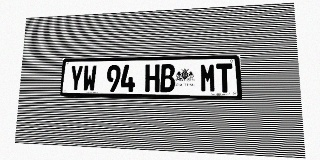4: (120, 65, 135, 92)
9: (106, 65, 121, 92)
B: (160, 64, 175, 92)
H: (145, 64, 160, 92)
M: (200, 63, 216, 92)
T: (216, 63, 233, 93)
W: (82, 65, 97, 92)
Y: (69, 65, 83, 92)
